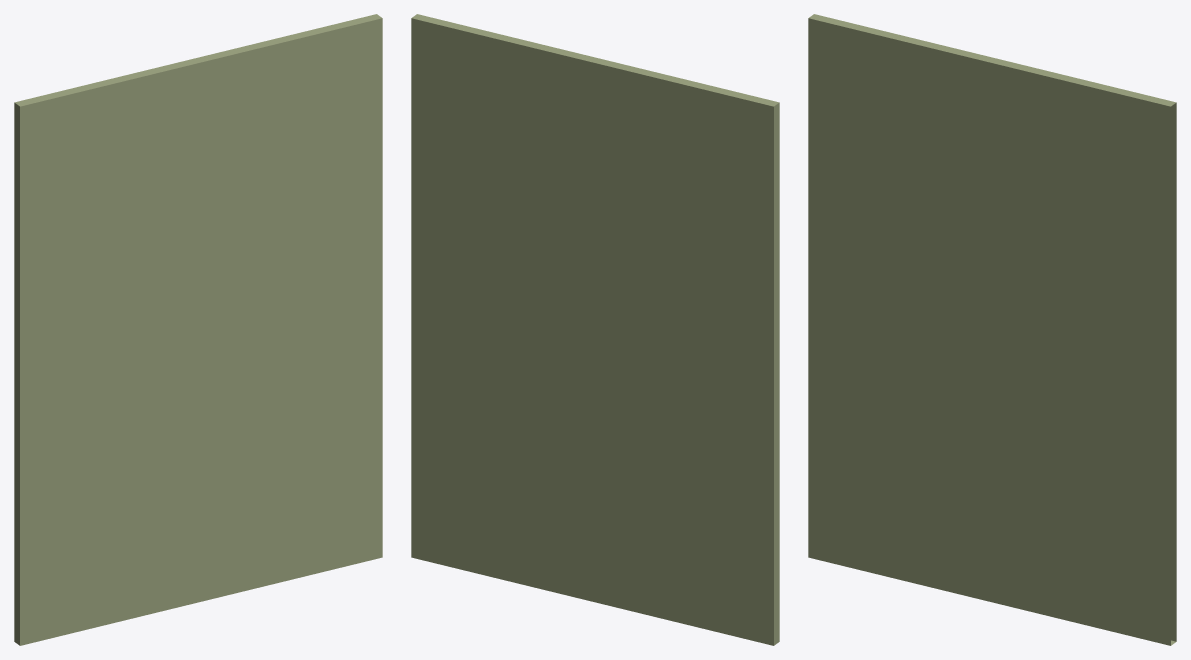
The model's file is contenedor-door.fbx.
3 views of the same model, side by side, from view 1: azimuth 30°, elevation 25°; view 2: azimuth 150°, elevation 25°; view 3: azimuth 330°, elevation 25° (orthographic).
Parts seen in each view (by area): view 1: rightdoor; view 2: rightdoor; view 3: rightdoor.
Part boxes in pixels (x1,y1,x2,y2): rightdoor: (14,14,382,645); rightdoor: (411,14,779,645); rightdoor: (808,14,1176,645).
Bounding box in the file's own units: 182 × 259 × 5.02.
